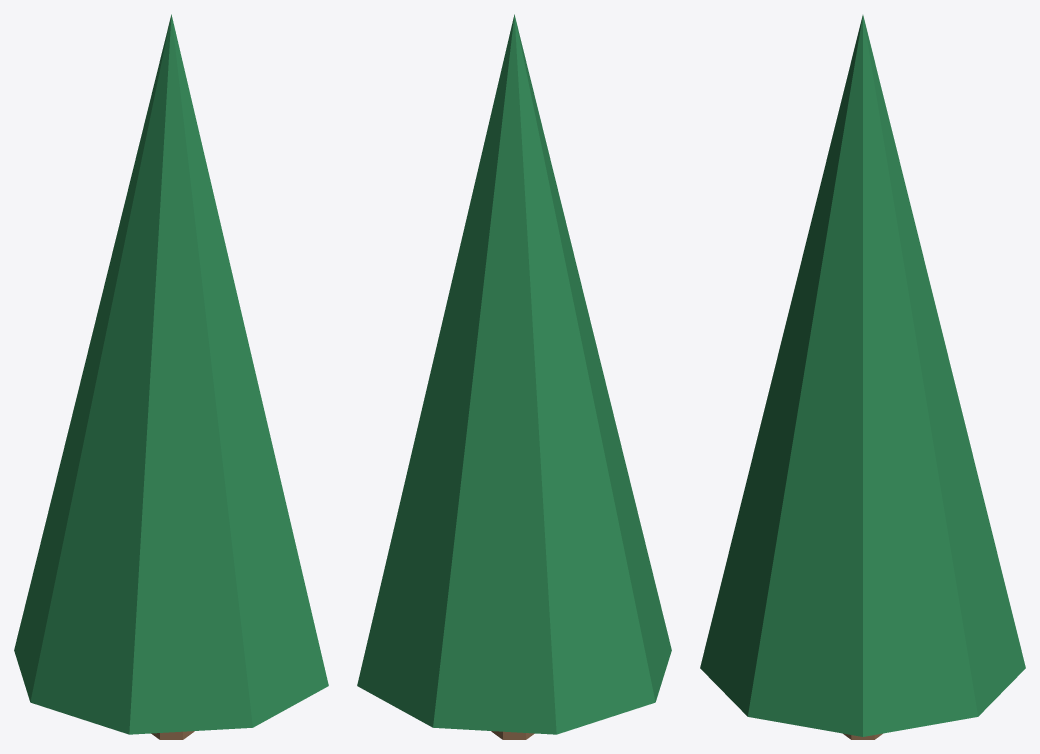
The model's file is Tree_04_Cypress.fbx.
3 views of the same model, side by side, from view 1: azimuth 30°, elevation 25°; view 2: azimuth 150°, elevation 25°; view 3: azimuth 270°, elevation 25° (orthographic).
Parts seen in each view (by area): view 1: Tree_04_Cypress; view 2: Tree_04_Cypress; view 3: Tree_04_Cypress.
Part boxes in pixels (x1=…): Tree_04_Cypress: x1=14, y1=14, x2=328, y2=739; Tree_04_Cypress: x1=357, y1=14, x2=671, y2=739; Tree_04_Cypress: x1=700, y1=15, x2=1025, y2=739.
Bounding box in the file's own units: 2.8 × 6.8 × 2.8.
